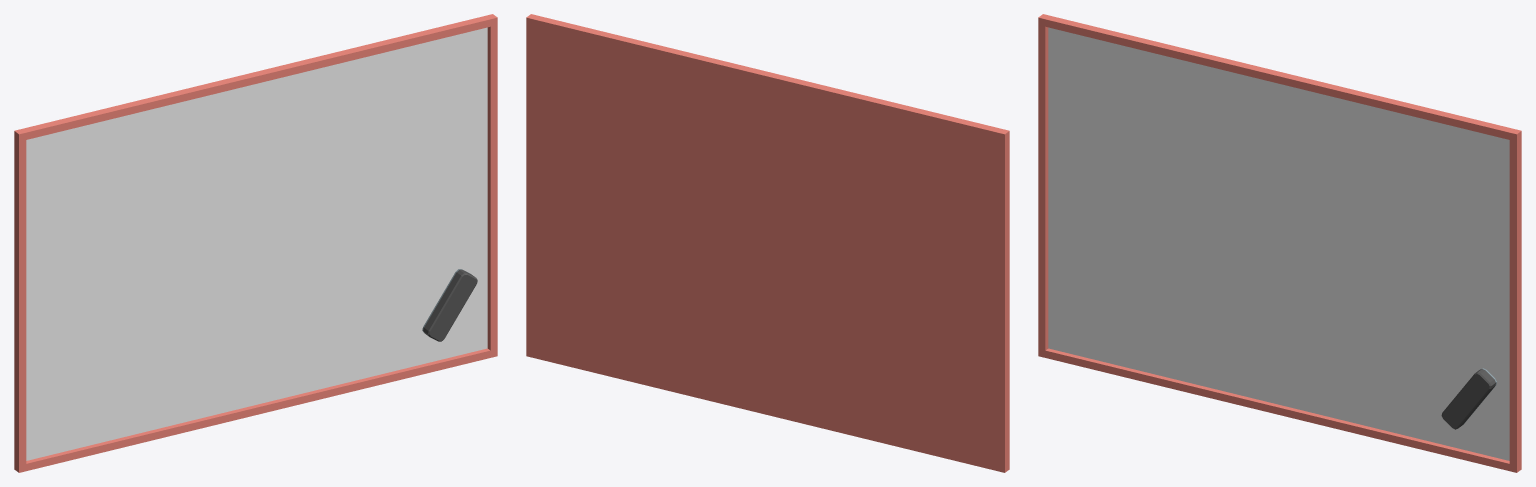
The model's file is whiteboard.glb.
3 views of the same model, side by side, from view 1: azimuth 30°, elevation 25°; view 2: azimuth 150°, elevation 25°; view 3: azimuth 330°, elevation 25° (orthographic).
Parts seen in each view (by area): view 1: White_board_Cube.045, White_board.001_Cube.026; view 2: White_board_Cube.045; view 3: White_board_Cube.045, White_board.001_Cube.026.
Boxes of the visible parts, x1,y1,x2,y2 form: White_board_Cube.045: [14, 14, 497, 472]; White_board.001_Cube.026: [422, 269, 477, 341]; White_board_Cube.045: [526, 14, 1009, 472]; White_board_Cube.045: [1038, 14, 1521, 472]; White_board.001_Cube.026: [1441, 368, 1496, 429].
Size of the model in its own units: 9.96 by 6.73 by 0.2971.
